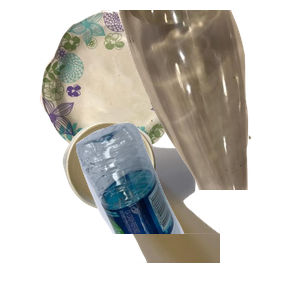glass: (115, 10, 300, 190)
paper: (37, 10, 219, 167)
plastic: (73, 120, 300, 300)
trash: (60, 120, 300, 300)
